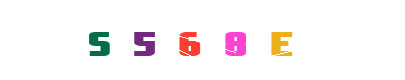5: (104, 0, 184, 80)
6: (163, 0, 243, 80)
8: (192, 0, 272, 80)
E: (193, 0, 273, 80)
S: (59, 0, 139, 80)
